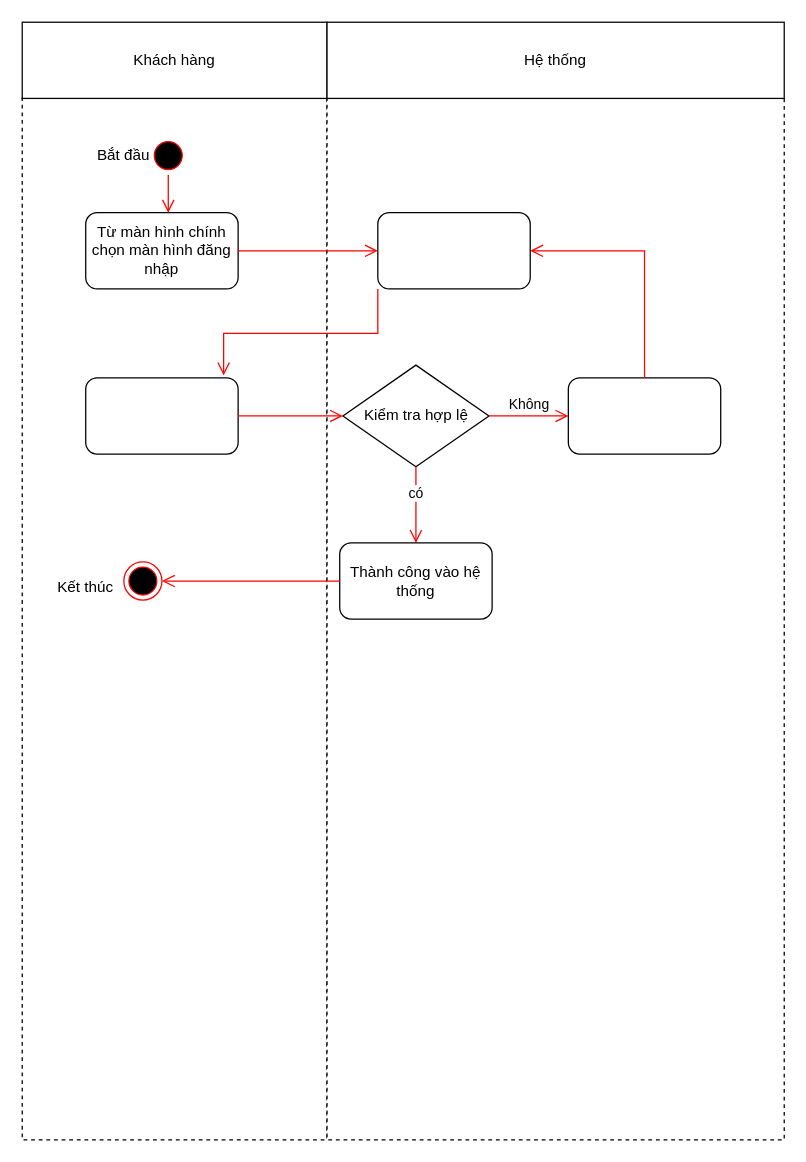
This 806x1162 diagram has some shape labels left out. Here are the shapes that lost their labels. From the top down, the centre of each, then its label:
At (x=453, y=250): "Hiển thị form đăng nhập".
At (x=161, y=415): "Nhập thông tin đăng nhập".
At (x=644, y=415): "Thông báo thất bại Yêu cầu nhập".
